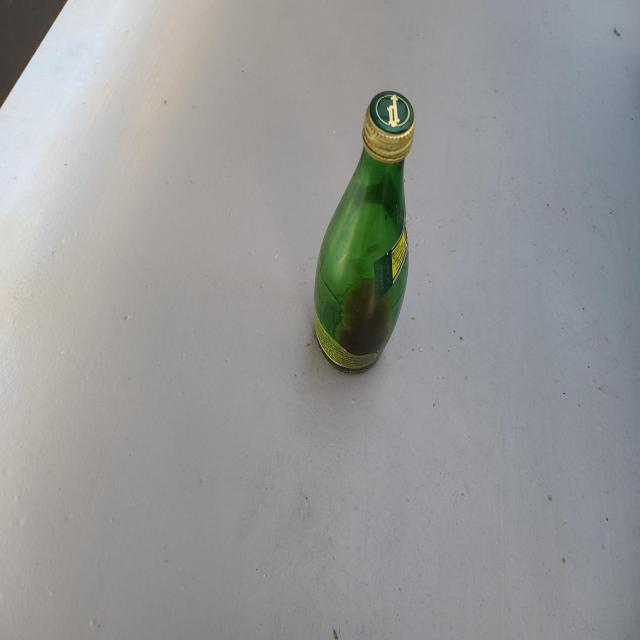glass: (314, 90, 416, 373)
